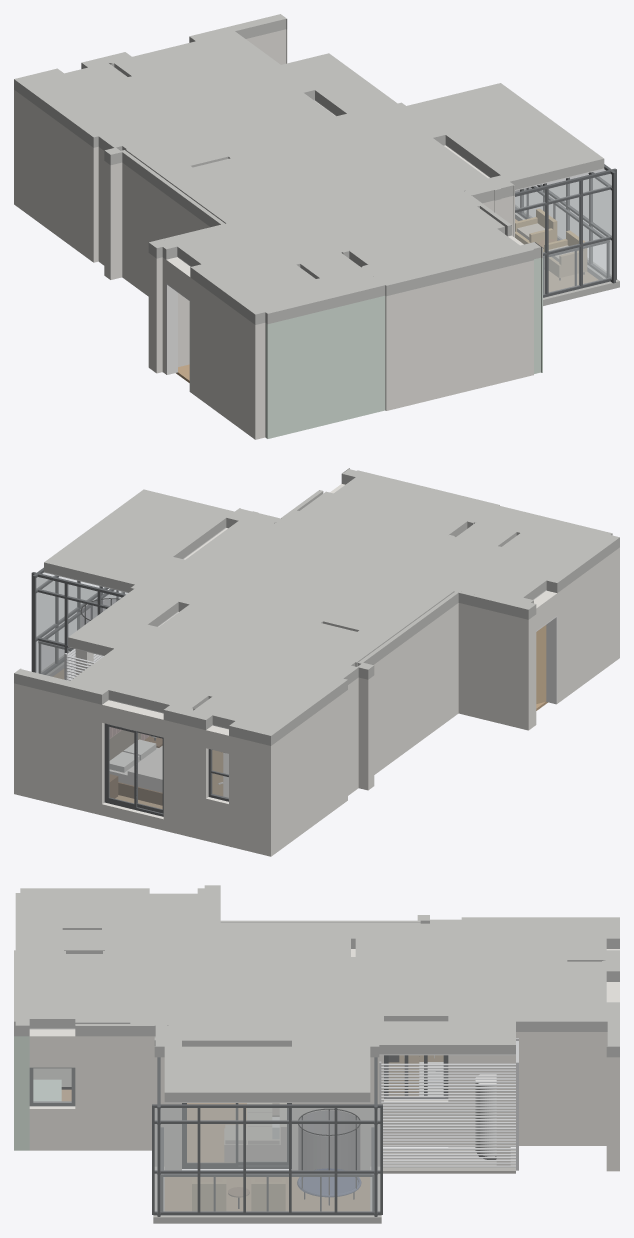
The picture shows the model from 3 angles, top to bottom: view 1: azimuth 30°, elevation 25°; view 2: azimuth 150°, elevation 25°; view 3: azimuth 270°, elevation 25°; orthographic projection. The views are drawn at different scales.
Visible parts, largest first — view 1: Roof__living__0, Wall__living__0, Wall__kids__12, Roof__bedroom__2, Wall__bedroom__27, Roof__balcony__6, Roof__kids__3, Wall__living__13, F__balcony__enc_s_glass, Roof__kitchen__1, Wall__living__28, Roof__guestbath__5 (+25 smaller); view 2: Roof__living__0, Wall__living__28, Wall__bedroom__27, Roof__bedroom__2, Roof__balcony__6, Wall__service__63, Roof__kids__3, Wall__living__13, Roof__kitchen__1, Wall__ensuite__33, F__balcony__enc_n_glass, Roof__guestbath__5 (+28 smaller); view 3: Roof__living__0, F__balcony__enc_e_glass, Roof__bedroom__2, Roof__balcony__6, Wall__service__63, Wall__living__44, Roof__kids__3, Roof__kitchen__1, F__balcony__rail_e_glass, Roof__service__7, Wall__balcony__48, Roof__guestbath__5 (+42 smaller).
Boxes of the visible parts, x1,y1,x2,y2 form: Roof__living__0: (165,126,491,291); Wall__living__0: (385,260,533,410); Wall__kids__12: (266,296,385,438); Roof__bedroom__2: (89,34,299,172); Wall__bedroom__27: (14,90,122,279); Roof__balcony__6: (407,83,604,189); Roof__kids__3: (323,199,519,278); Wall__living__13: (190,277,260,439); F__balcony__enc_s_glass: (515,174,611,294); Roof__kitchen__1: (185,92,368,167); Wall__living__28: (122,163,210,373); Roof__guestbath__5: (206,250,328,309); Roof__living__0: (167,510,547,636); Wall__living__28: (373,603,536,774); Wall__bedroom__27: (229,675,374,856); Roof__bedroom__2: (82,623,383,712); Roof__balcony__6: (44,489,234,592); Wall__service__63: (14,683,104,815); Roof__kids__3: (297,476,485,553); Wall__living__13: (557,547,619,703); Roof__kitchen__1: (157,582,335,655); Wall__ensuite__33: (163,720,208,840); F__balcony__enc_n_glass: (36,577,121,679); Roof__guestbath__5: (483,522,605,577); Roof__living__0: (26,893,350,1046); F__balcony__enc_e_glass: (155,1108,379,1211); Roof__bedroom__2: (355,925,606,1015); Roof__balcony__6: (164,1046,370,1102); Wall__service__63: (510,1032,619,1171); Wall__living__44: (75,1036,157,1166); Roof__kids__3: (26,954,155,1028); Roof__kitchen__1: (324,957,450,1021); F__balcony__rail_e_glass: (163,1177,371,1210); Roof__service__7: (379,1021,515,1054); Wall__balcony__48: (292,1057,372,1170); Roof__guestbath__5: (26,893,140,929).
Bounding box in the file's own units: 10.96 × 3.1 × 13.23.
